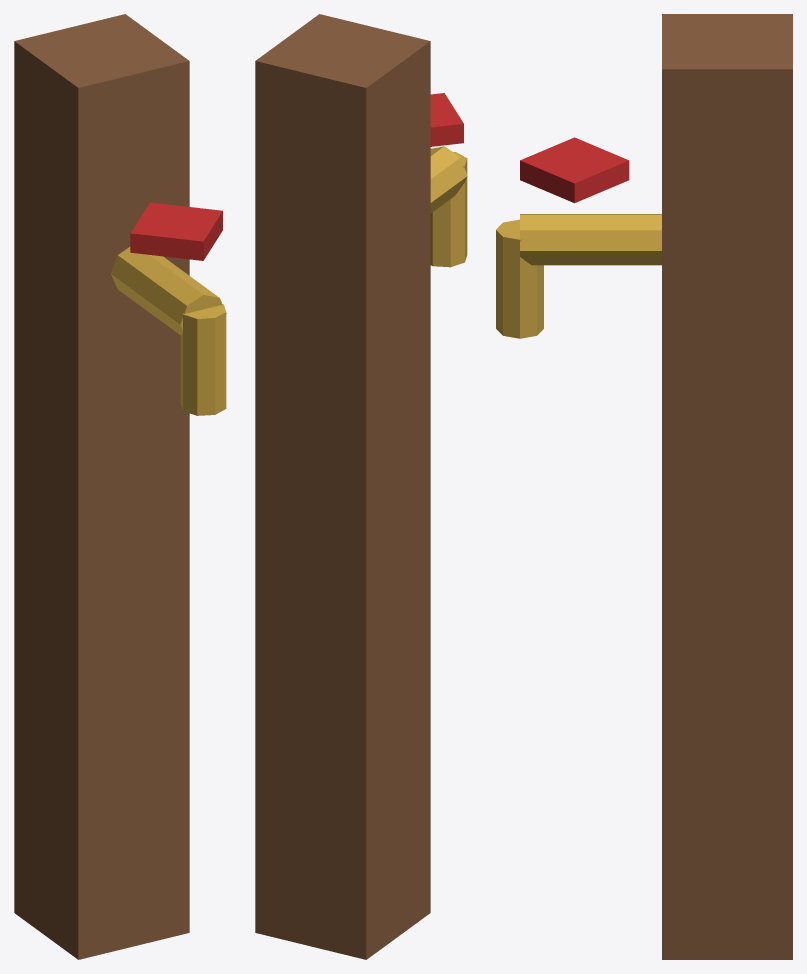
Rendered from nursery_tap.glb.
3 renders of one model, left to right at view 1: azimuth 30°, elevation 25°; view 2: azimuth 150°, elevation 25°; view 3: azimuth 270°, elevation 25°, orthographic. The views are drawn at different scales.
Visible parts, largest first — view 1: post_tap_post, pipe_tap_brass, spout_tap_brass, handle_tap_handle; view 2: post_tap_post, spout_tap_brass, pipe_tap_brass, handle_tap_handle; view 3: post_tap_post, pipe_tap_brass, handle_tap_handle, spout_tap_brass.
Part boxes in pixels (<box>): post_tap_post: <box>14,14,189,959</box>; pipe_tap_brass: <box>111,247,226,335</box>; spout_tap_brass: <box>180,304,226,415</box>; handle_tap_handle: <box>130,202,222,260</box>; post_tap_post: <box>255,14,430,959</box>; spout_tap_brass: <box>430,152,467,267</box>; pipe_tap_brass: <box>430,146,467,213</box>; handle_tap_handle: <box>430,93,463,146</box>; post_tap_post: <box>662,14,792,959</box>; pipe_tap_brass: <box>520,214,661,265</box>; handle_tap_handle: <box>520,137,629,203</box>; spout_tap_brass: <box>496,219,543,338</box>.
Size of the model in its own units: 0.12 by 0.9 by 0.272.
